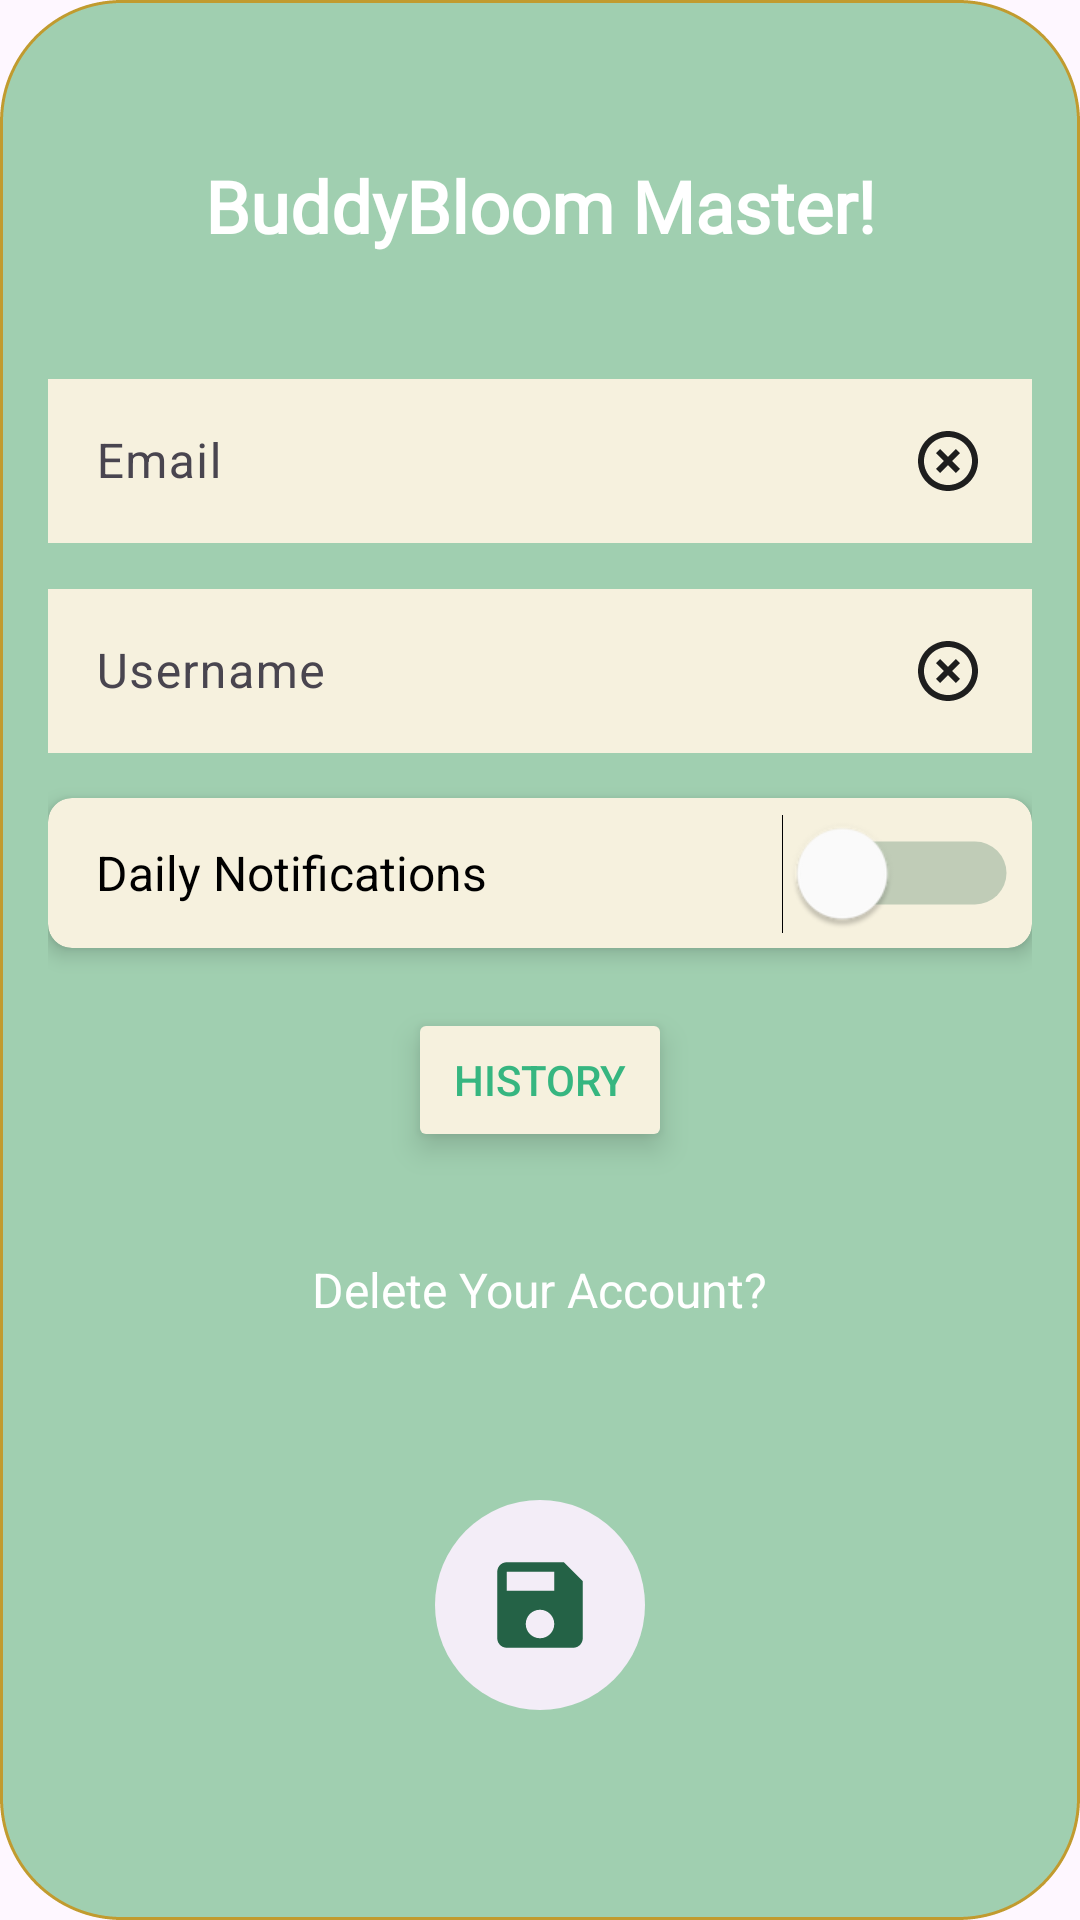

Icons on this 1080x1920 Android screen, each with the point to tap as [x,y]:
Save button: [540,1605]
